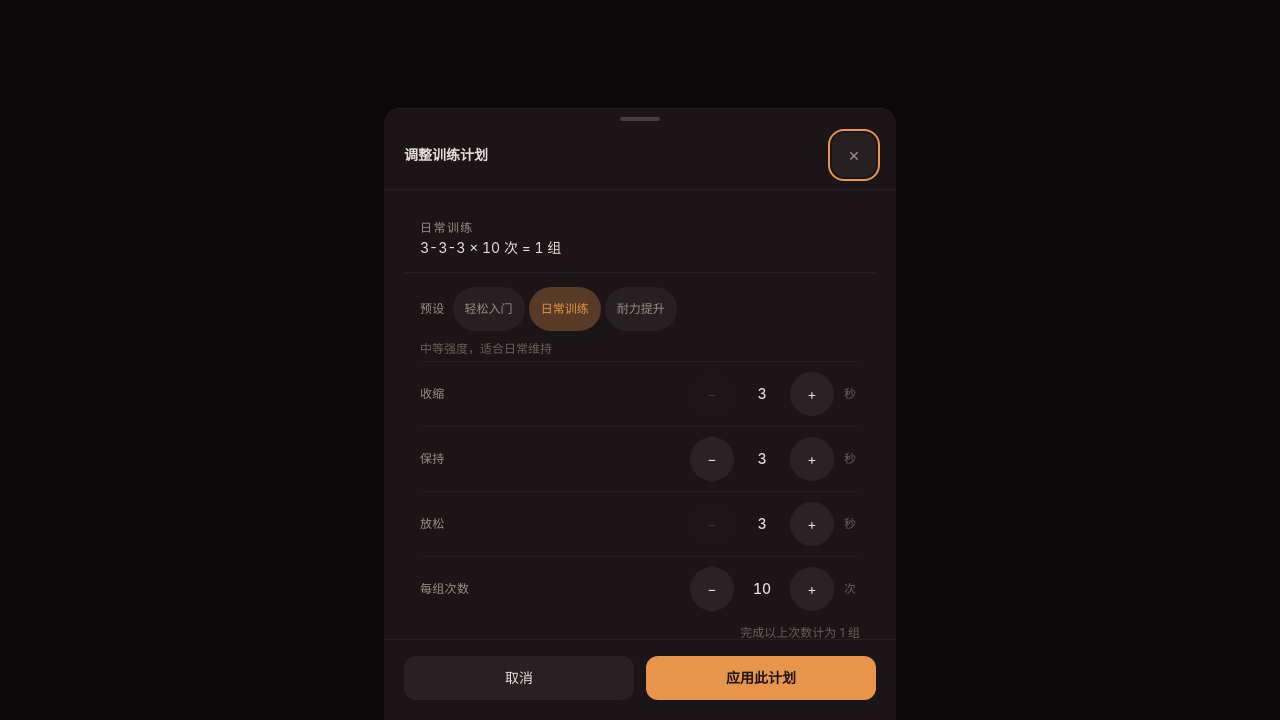
Test: ConfigDrawer › uses Escape for guarded close and traps keyboard focus
Press Tab in the dialog "调整训练计划", box [384,108,896,719]
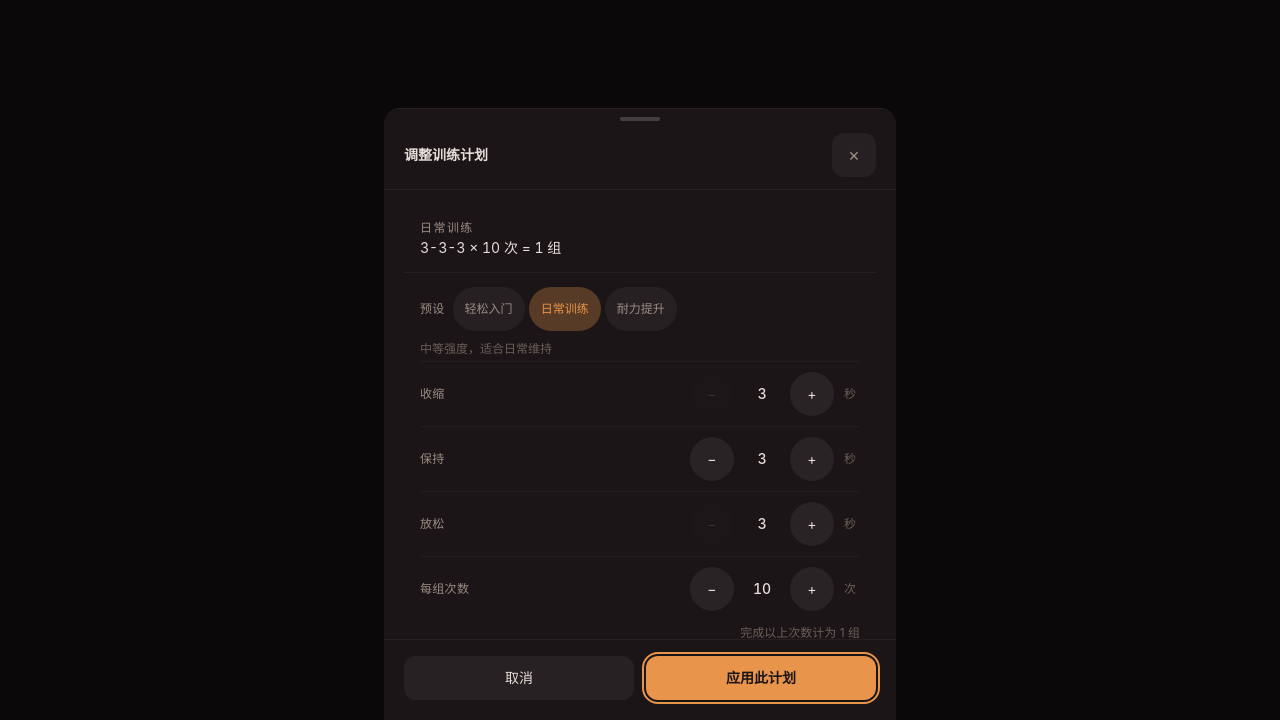
Click the button named "增加收缩" at (812, 394), box [790,372,834,416]
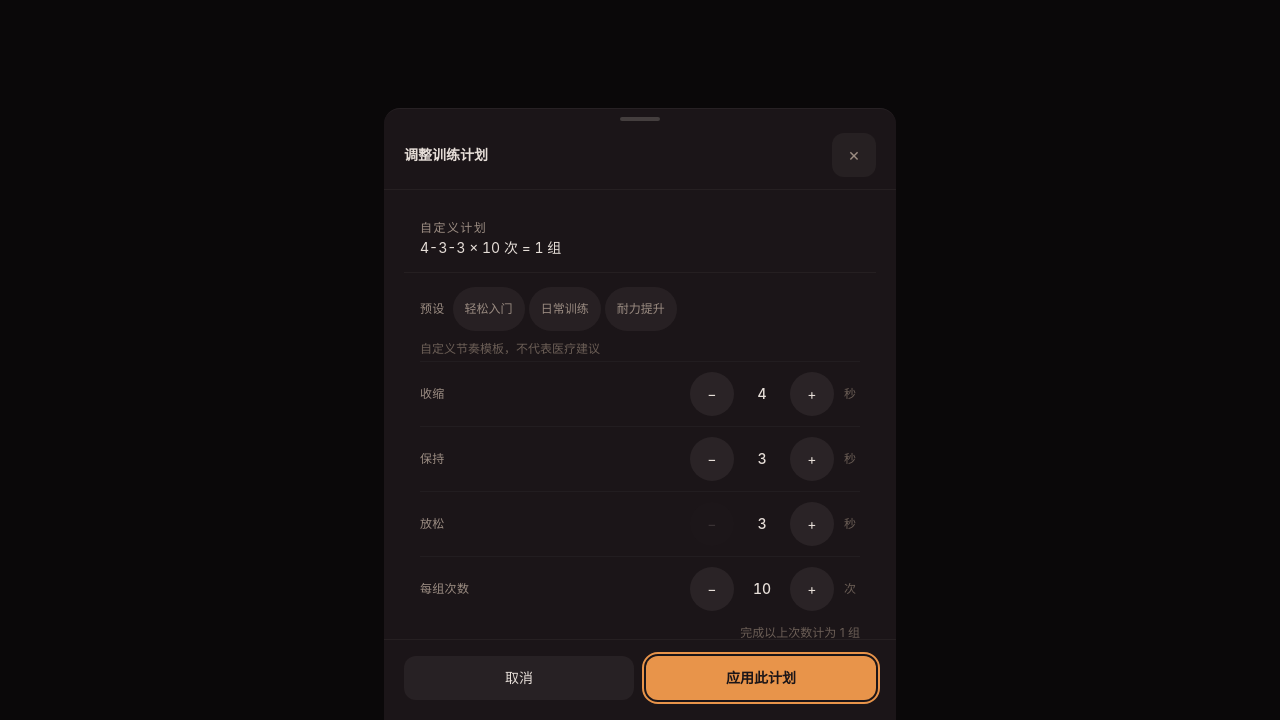
Press Escape in the dialog "调整训练计划", box [384,108,896,719]
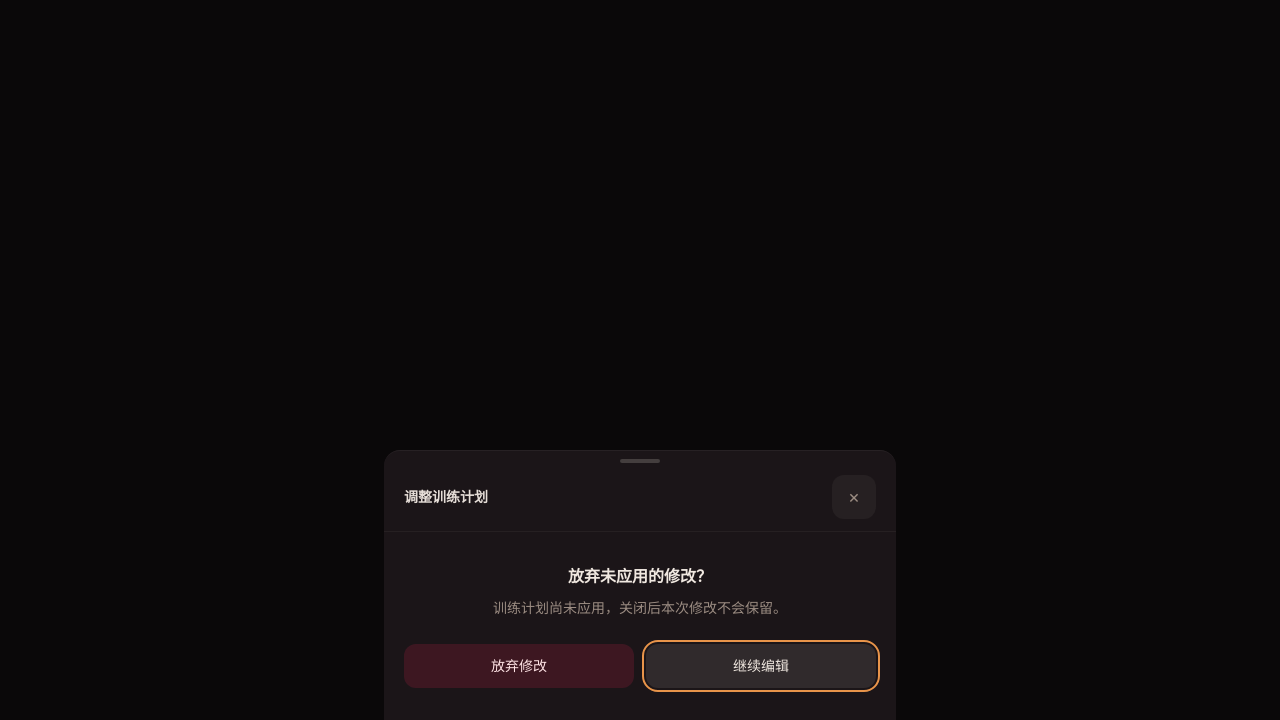
Expected: the heading "放弃未应用的修改？" is shown, [568,566,712,586]
